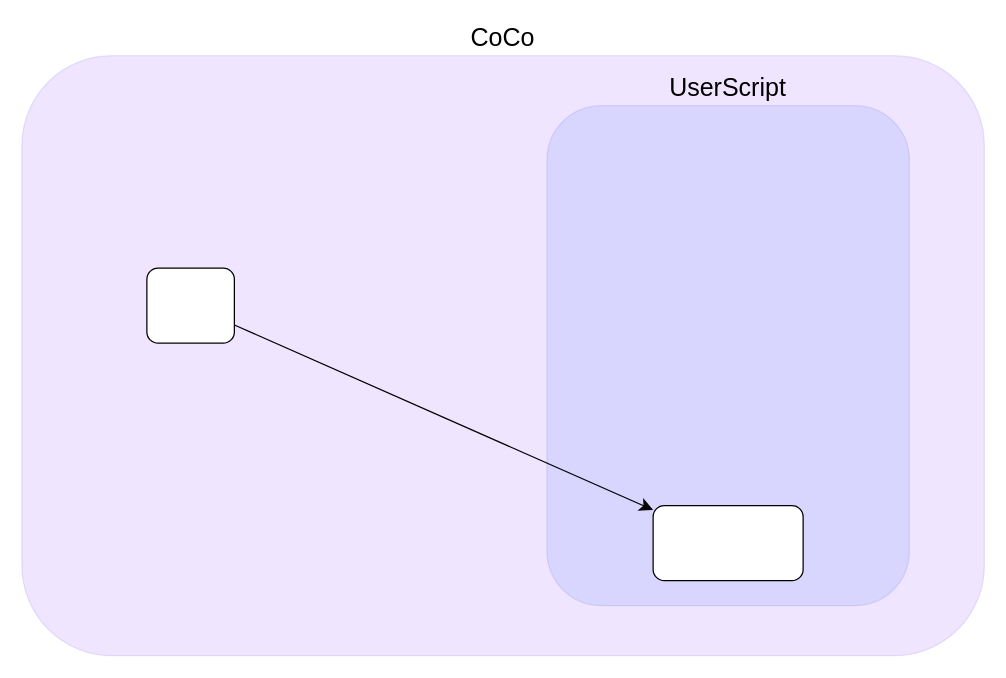
The diagram is 1006 pixels wide and 678 high, and some of its shapes have lost their labels. The centre of each missing label's shape, as x and y in pixels:
"bcmc workid" goes at (x=190, y=305).
"POST /package" goes at (x=727, y=542).
